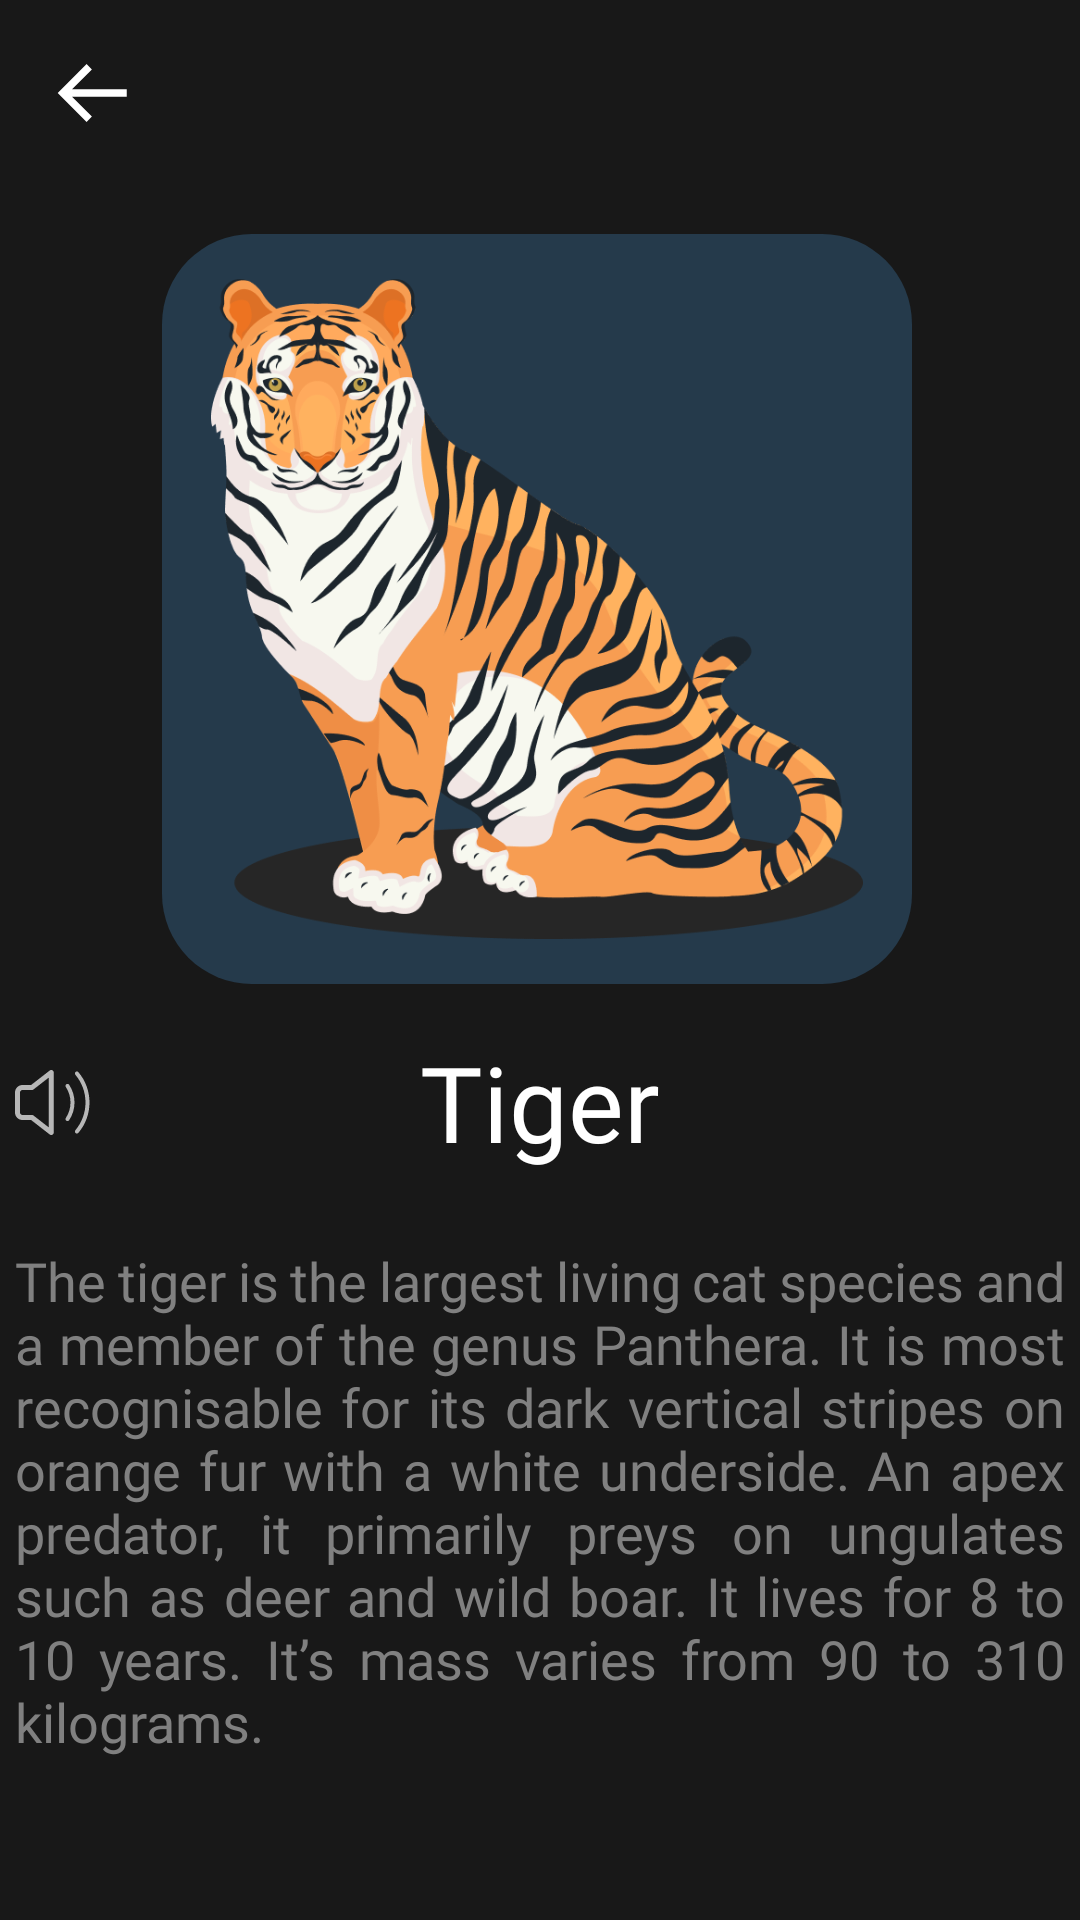

Icon bounding boxes for this 1080px×1920px phone screenshot, format (x1, y1, x2, y2):
back: (58, 64, 127, 122)
speaker: (15, 1070, 90, 1135)
